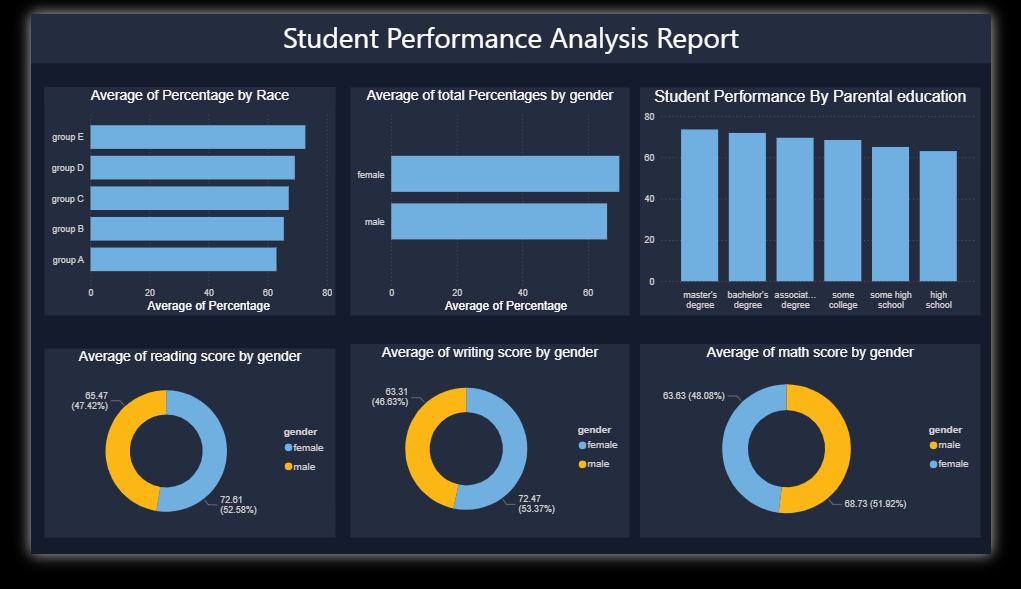

This screenshot's page, from the dashboard's own definition file:
{"tool":"powerbi","page":{"name":"Page 1","canvas":[1280,720],"ordinal":0},"visuals":[{"type":"clusteredBarChart","title":"Average of total Percentages by gender","fields":{"Category":["students_performance.gender"],"Y":["Avg(students_performance.total_percentage)"]},"box":[426,98,372,304],"z":0},{"type":"donutChart","fields":{"Category":["students_performance.gender"],"Y":["Avg(students_performance.math score)"]},"box":[812,440,454,258],"z":1},{"type":"donutChart","fields":{"Category":["students_performance.gender"],"Y":["Avg(students_performance.writing score)"]},"box":[426,440,372,258],"z":2},{"type":"donutChart","fields":{"Category":["students_performance.gender"],"Y":["Avg(students_performance.reading score)"]},"box":[18,446,388,252],"z":3},{"type":"columnChart","title":"Student Performance By Parental education","fields":{"Category":["students_performance.parental level of education"],"Y":["Avg(students_performance.total_percentage)"]},"box":[812,98,454,304],"z":4},{"type":"clusteredBarChart","title":"Average of Percentage by Race","fields":{"Category":["students_performance.race/ethnicity"],"Y":["Avg(students_performance.total_percentage)"]},"box":[18,98,388,304],"z":5},{"type":"textbox","box":[0,0,1280,66],"z":6}]}

Visuals, with their boxes in screenshot pixels (x1, y1, x2, y2), scaled from the page's 1280x720 canvas onto the 1021x589 screenshot:
"Average of total Percentages by gender" clusteredBarChart: (x1=340, y1=80, x2=637, y2=329)
donutChart - students_performance.gender x Avg(students_performance.math score): (x1=648, y1=360, x2=1010, y2=571)
donutChart - students_performance.gender x Avg(students_performance.writing score): (x1=340, y1=360, x2=637, y2=571)
donutChart - students_performance.gender x Avg(students_performance.reading score): (x1=14, y1=365, x2=324, y2=571)
"Student Performance By Parental education" columnChart: (x1=648, y1=80, x2=1010, y2=329)
"Average of Percentage by Race" clusteredBarChart: (x1=14, y1=80, x2=324, y2=329)
textbox: (x1=0, y1=0, x2=1020, y2=54)
